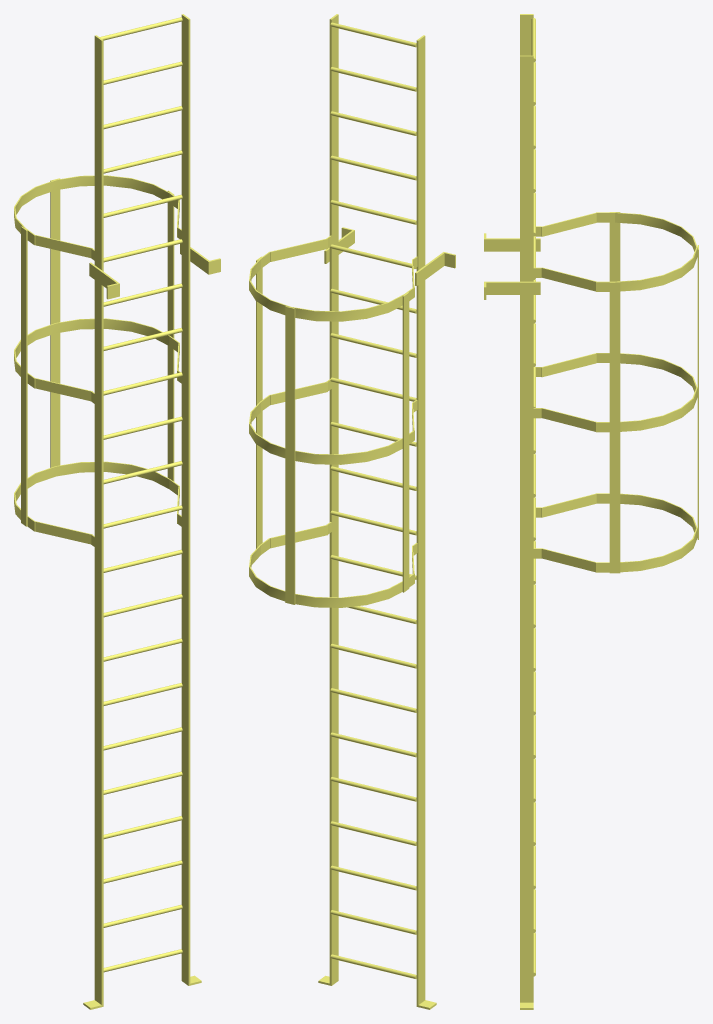
File: Image-1710907726132-2281098705808_73-MA50-CRANE-LADDER.fbx
3 renders of one model, left to right at view 1: azimuth 30°, elevation 25°; view 2: azimuth 150°, elevation 25°; view 3: azimuth 270°, elevation 25°, orthographic.
Parts seen in each view (by area): view 1: BOX 1 of SUBSTRUCTURE 2 of STRUCTURE /73-MA50-CRANE-LADDER, BOX 1 of SUBSTRUCTURE 1 of STRUCTURE /73-MA50-CRANE-LADDER, BOX 3 of SUBSTRUCTURE 9 of STRUCTURE /73-MA50-CRANE-LADDER, BOX 2 of SUBSTRUCTURE 9 of STRUCTURE /73-MA50-CRANE-LADDER, BOX 1 of SUBSTRUCTURE 9 of STRUCTURE /73-MA50-CRANE-LADDER, RTORUS 1 of SUBSTRUCTURE 12 of STRUCTURE /73-MA50-CRANE-LADD, RTORUS 1 of SUBSTRUCTURE 11 of STRUCTURE /73-MA50-CRANE-LADD, RTORUS 1 of SUBSTRUCTURE 10 of STRUCTURE /73-MA50-CRANE-LADD, BOX 2 of SUBSTRUCTURE 12 of STRUCTURE /73-MA50-CRANE-LADDER, BOX 2 of SUBSTRUCTURE 10 of STRUCTURE /73-MA50-CRANE-LADDER, BOX 2 of SUBSTRUCTURE 11 of STRUCTURE /73-MA50-CRANE-LADDER; view 2: BOX 1 of SUBSTRUCTURE 1 of STRUCTURE /73-MA50-CRANE-LADDER, BOX 1 of SUBSTRUCTURE 2 of STRUCTURE /73-MA50-CRANE-LADDER, BOX 3 of SUBSTRUCTURE 9 of STRUCTURE /73-MA50-CRANE-LADDER, BOX 2 of SUBSTRUCTURE 9 of STRUCTURE /73-MA50-CRANE-LADDER, RTORUS 1 of SUBSTRUCTURE 12 of STRUCTURE /73-MA50-CRANE-LADD, RTORUS 1 of SUBSTRUCTURE 10 of STRUCTURE /73-MA50-CRANE-LADD, RTORUS 1 of SUBSTRUCTURE 11 of STRUCTURE /73-MA50-CRANE-LADD, BOX 1 of SUBSTRUCTURE 9 of STRUCTURE /73-MA50-CRANE-LADDER, BOX 5 of SUBSTRUCTURE 12 of STRUCTURE /73-MA50-CRANE-LADDER, BOX 5 of SUBSTRUCTURE 10 of STRUCTURE /73-MA50-CRANE-LADDER, BOX 5 of SUBSTRUCTURE 11 of STRUCTURE /73-MA50-CRANE-LADDER; view 3: BOX 1 of SUBSTRUCTURE 2 of STRUCTURE /73-MA50-CRANE-LADDER, BOX 1 of SUBSTRUCTURE 9 of STRUCTURE /73-MA50-CRANE-LADDER, RTORUS 1 of SUBSTRUCTURE 12 of STRUCTURE /73-MA50-CRANE-LADD, RTORUS 1 of SUBSTRUCTURE 11 of STRUCTURE /73-MA50-CRANE-LADD, RTORUS 1 of SUBSTRUCTURE 10 of STRUCTURE /73-MA50-CRANE-LADD, BOX 2 of SUBSTRUCTURE 5 of STRUCTURE /73-MA50-CRANE-LADDER, BOX 2 of SUBSTRUCTURE 9 of STRUCTURE /73-MA50-CRANE-LADDER, BOX 2 of SUBSTRUCTURE 11 of STRUCTURE /73-MA50-CRANE-LADDER, BOX 2 of SUBSTRUCTURE 10 of STRUCTURE /73-MA50-CRANE-LADDER, BOX 2 of SUBSTRUCTURE 12 of STRUCTURE /73-MA50-CRANE-LADDER, BOX 5 of SUBSTRUCTURE 12 of STRUCTURE /73-MA50-CRANE-LADDER, BOX 5 of SUBSTRUCTURE 10 of STRUCTURE /73-MA50-CRANE-LADDER (+4 smaller).
Part boxes in pixels (<box>): BOX 1 of SUBSTRUCTURE 2 of STRUCTURE /73-MA50-CRANE-LADDER: <box>181,14,190,985</box>; BOX 1 of SUBSTRUCTURE 1 of STRUCTURE /73-MA50-CRANE-LADDER: <box>94,35,103,1006</box>; BOX 3 of SUBSTRUCTURE 9 of STRUCTURE /73-MA50-CRANE-LADDER: <box>50,178,60,467</box>; BOX 2 of SUBSTRUCTURE 9 of STRUCTURE /73-MA50-CRANE-LADDER: <box>21,226,27,526</box>; BOX 1 of SUBSTRUCTURE 9 of STRUCTURE /73-MA50-CRANE-LADDER: <box>167,190,174,481</box>; RTORUS 1 of SUBSTRUCTURE 12 of STRUCTURE /73-MA50-CRANE-LADD: <box>14,175,169,233</box>; RTORUS 1 of SUBSTRUCTURE 11 of STRUCTURE /73-MA50-CRANE-LADD: <box>14,318,169,376</box>; RTORUS 1 of SUBSTRUCTURE 10 of STRUCTURE /73-MA50-CRANE-LADD: <box>14,461,169,519</box>; BOX 2 of SUBSTRUCTURE 12 of STRUCTURE /73-MA50-CRANE-LADDER: <box>35,235,92,257</box>; BOX 2 of SUBSTRUCTURE 10 of STRUCTURE /73-MA50-CRANE-LADDER: <box>35,521,92,544</box>; BOX 2 of SUBSTRUCTURE 11 of STRUCTURE /73-MA50-CRANE-LADDER: <box>35,378,92,401</box>; BOX 1 of SUBSTRUCTURE 1 of STRUCTURE /73-MA50-CRANE-LADDER: <box>416,35,425,1006</box>; BOX 1 of SUBSTRUCTURE 2 of STRUCTURE /73-MA50-CRANE-LADDER: <box>329,14,338,985</box>; BOX 3 of SUBSTRUCTURE 9 of STRUCTURE /73-MA50-CRANE-LADDER: <box>285,306,295,604</box>; BOX 2 of SUBSTRUCTURE 9 of STRUCTURE /73-MA50-CRANE-LADDER: <box>402,292,409,592</box>; RTORUS 1 of SUBSTRUCTURE 12 of STRUCTURE /73-MA50-CRANE-LADD: <box>249,259,404,321</box>; RTORUS 1 of SUBSTRUCTURE 10 of STRUCTURE /73-MA50-CRANE-LADD: <box>249,545,402,607</box>; RTORUS 1 of SUBSTRUCTURE 11 of STRUCTURE /73-MA50-CRANE-LADD: <box>249,402,402,464</box>; BOX 1 of SUBSTRUCTURE 9 of STRUCTURE /73-MA50-CRANE-LADDER: <box>256,256,262,548</box>; BOX 5 of SUBSTRUCTURE 12 of STRUCTURE /73-MA50-CRANE-LADDER: <box>270,238,327,261</box>; BOX 5 of SUBSTRUCTURE 10 of STRUCTURE /73-MA50-CRANE-LADDER: <box>270,525,327,548</box>; BOX 5 of SUBSTRUCTURE 11 of STRUCTURE /73-MA50-CRANE-LADDER: <box>270,382,327,404</box>; BOX 1 of SUBSTRUCTURE 2 of STRUCTURE /73-MA50-CRANE-LADDER: <box>520,55,533,1002</box>; BOX 1 of SUBSTRUCTURE 9 of STRUCTURE /73-MA50-CRANE-LADDER: <box>609,282,620,573</box>; RTORUS 1 of SUBSTRUCTURE 12 of STRUCTURE /73-MA50-CRANE-LADD: <box>615,212,697,291</box>; RTORUS 1 of SUBSTRUCTURE 11 of STRUCTURE /73-MA50-CRANE-LADD: <box>620,353,697,431</box>; RTORUS 1 of SUBSTRUCTURE 10 of STRUCTURE /73-MA50-CRANE-LADD: <box>620,493,697,572</box>; BOX 2 of SUBSTRUCTURE 5 of STRUCTURE /73-MA50-CRANE-LADDER: <box>484,281,540,294</box>; BOX 2 of SUBSTRUCTURE 9 of STRUCTURE /73-MA50-CRANE-LADDER: <box>609,212,620,281</box>; BOX 2 of SUBSTRUCTURE 11 of STRUCTURE /73-MA50-CRANE-LADDER: <box>541,353,596,377</box>; BOX 2 of SUBSTRUCTURE 10 of STRUCTURE /73-MA50-CRANE-LADDER: <box>541,493,596,517</box>; BOX 2 of SUBSTRUCTURE 12 of STRUCTURE /73-MA50-CRANE-LADDER: <box>541,213,596,236</box>; BOX 5 of SUBSTRUCTURE 12 of STRUCTURE /73-MA50-CRANE-LADDER: <box>541,267,596,291</box>; BOX 5 of SUBSTRUCTURE 10 of STRUCTURE /73-MA50-CRANE-LADDER: <box>541,548,595,572</box>.
Size of the model in its own units: 0.784 by 1.01 by 4.9.
